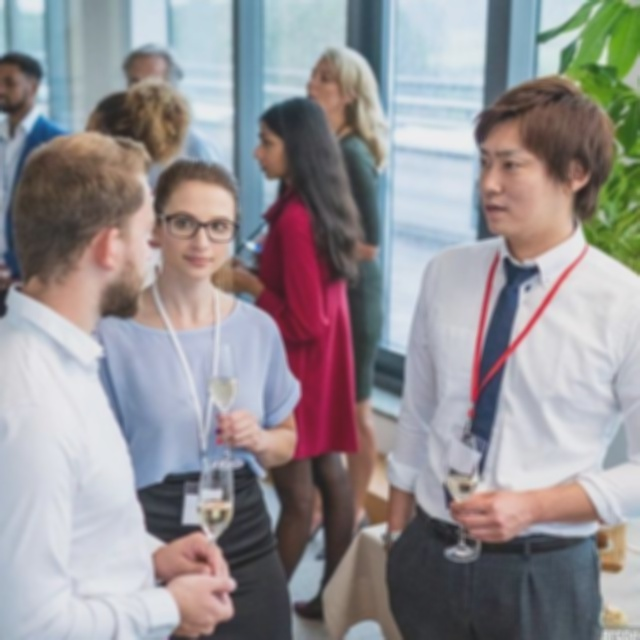Sin_Casco_Mascarrilla: (471, 74, 613, 236), (154, 159, 240, 287), (254, 99, 330, 186)
Sin_Chaleco: (402, 242, 640, 547), (0, 305, 145, 631)
